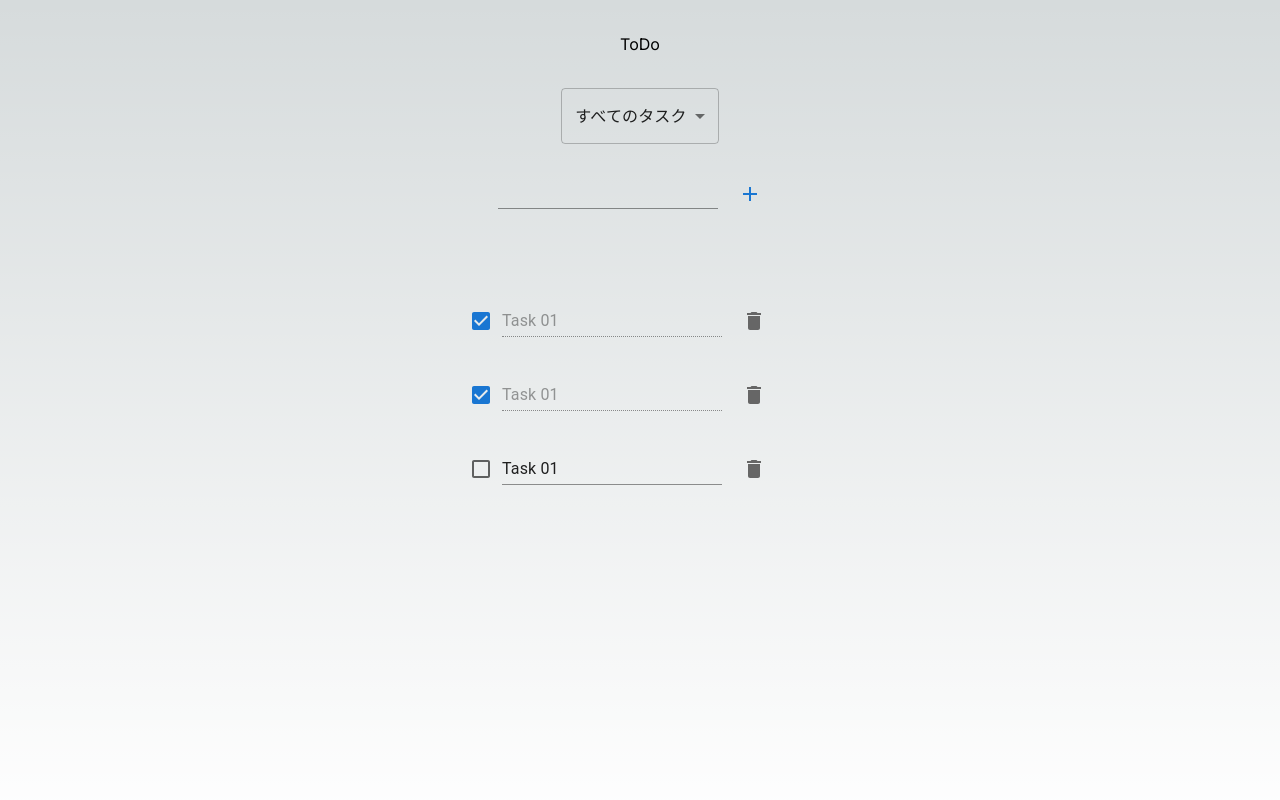
Test: ToDo › ステータス変更されたタスクを表示する › ごみ箱へ移動したタスクを表示できること
Type "Task 01" into the 1st field at (608, 193), box [498,177,718,209]
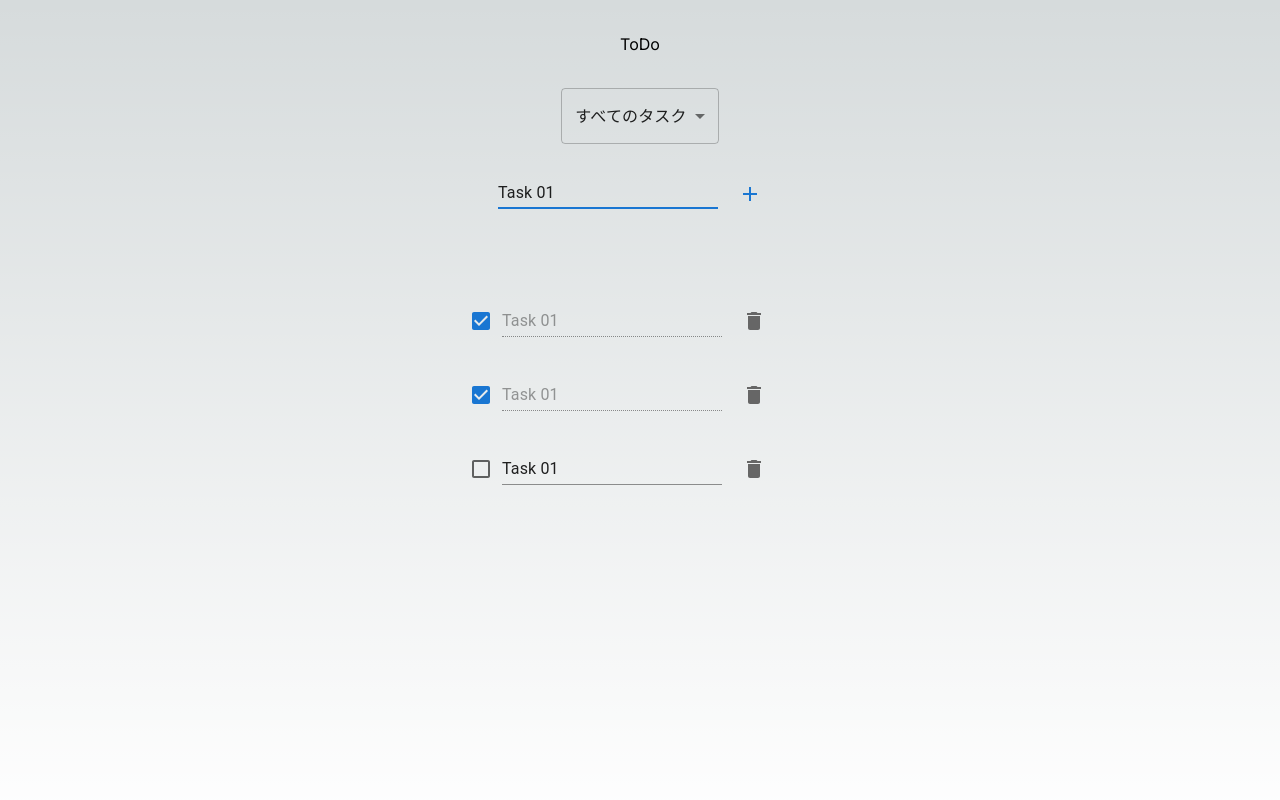
Click the 1st button at (750, 194), box [718,176,782,212]
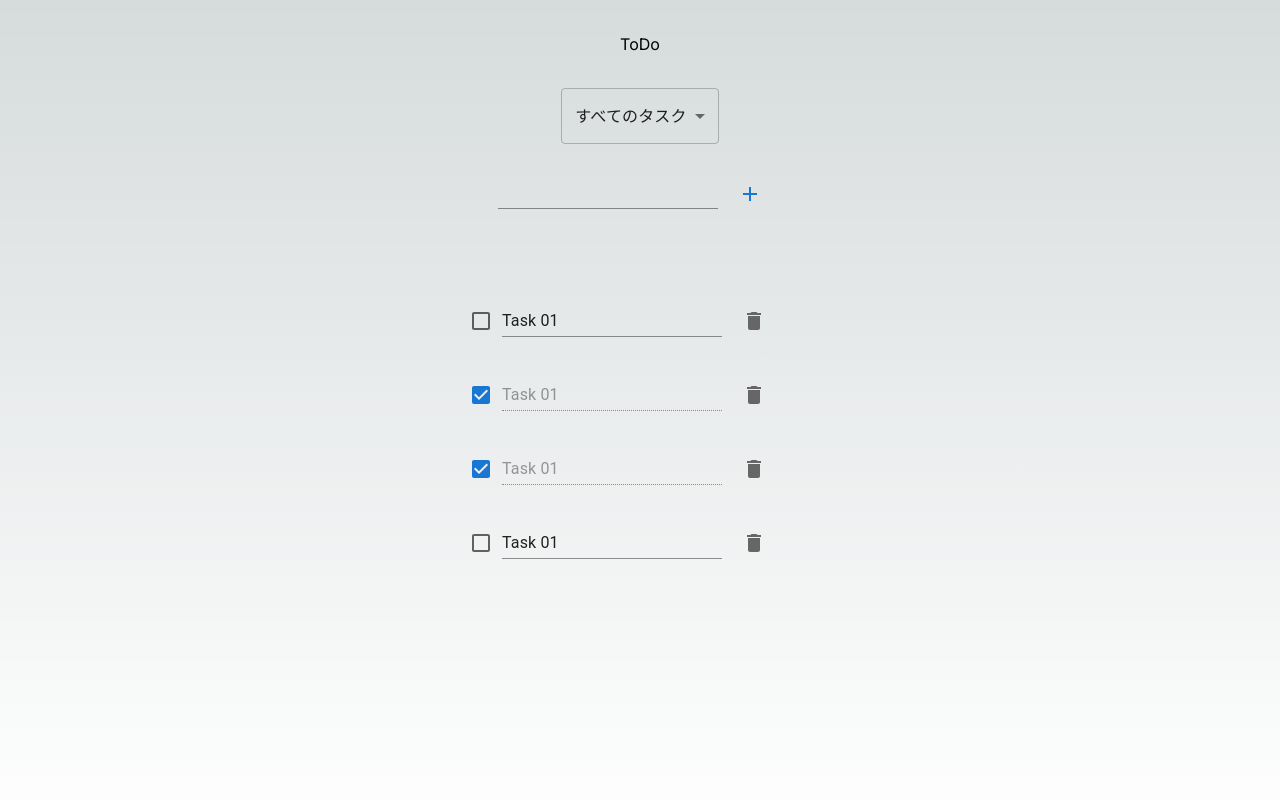
Click the 2nd button at (754, 321), box [722,303,786,339]
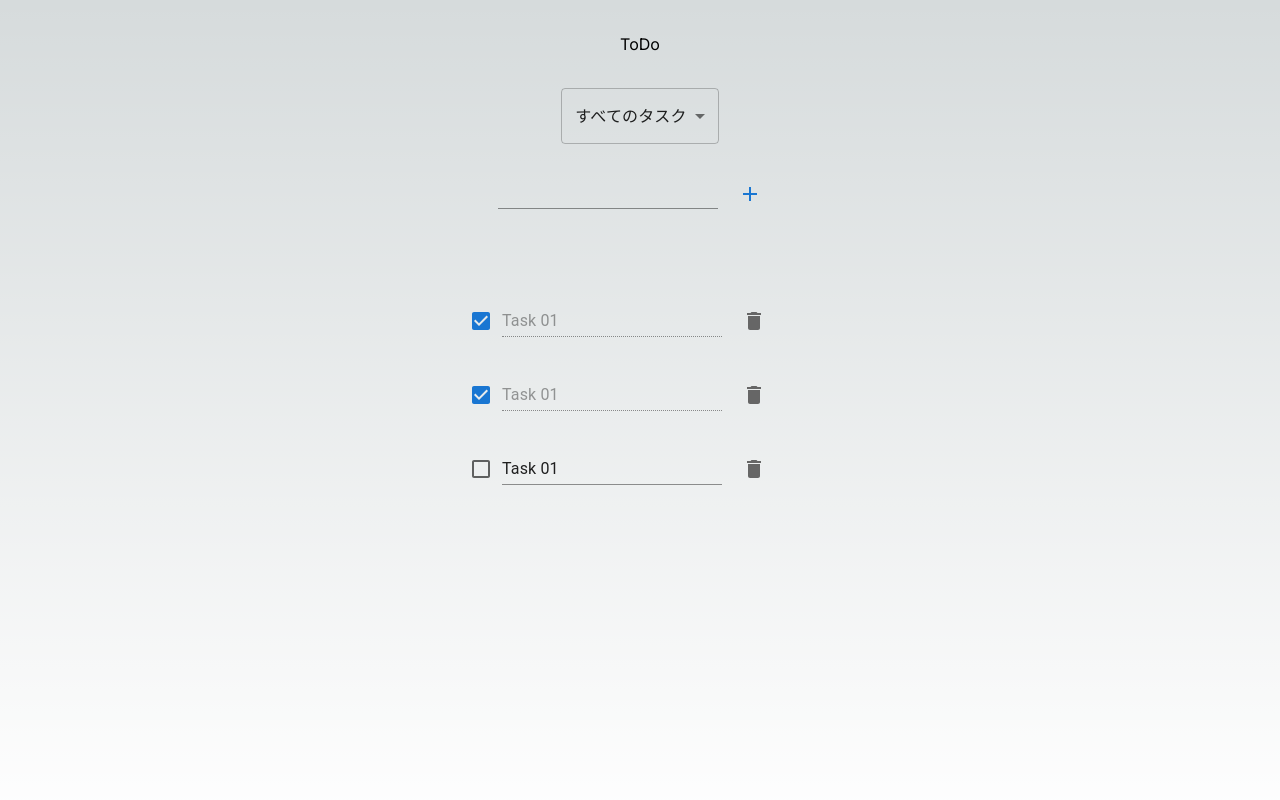
Click the dropdown at (631, 116), box [575,106,687,126]
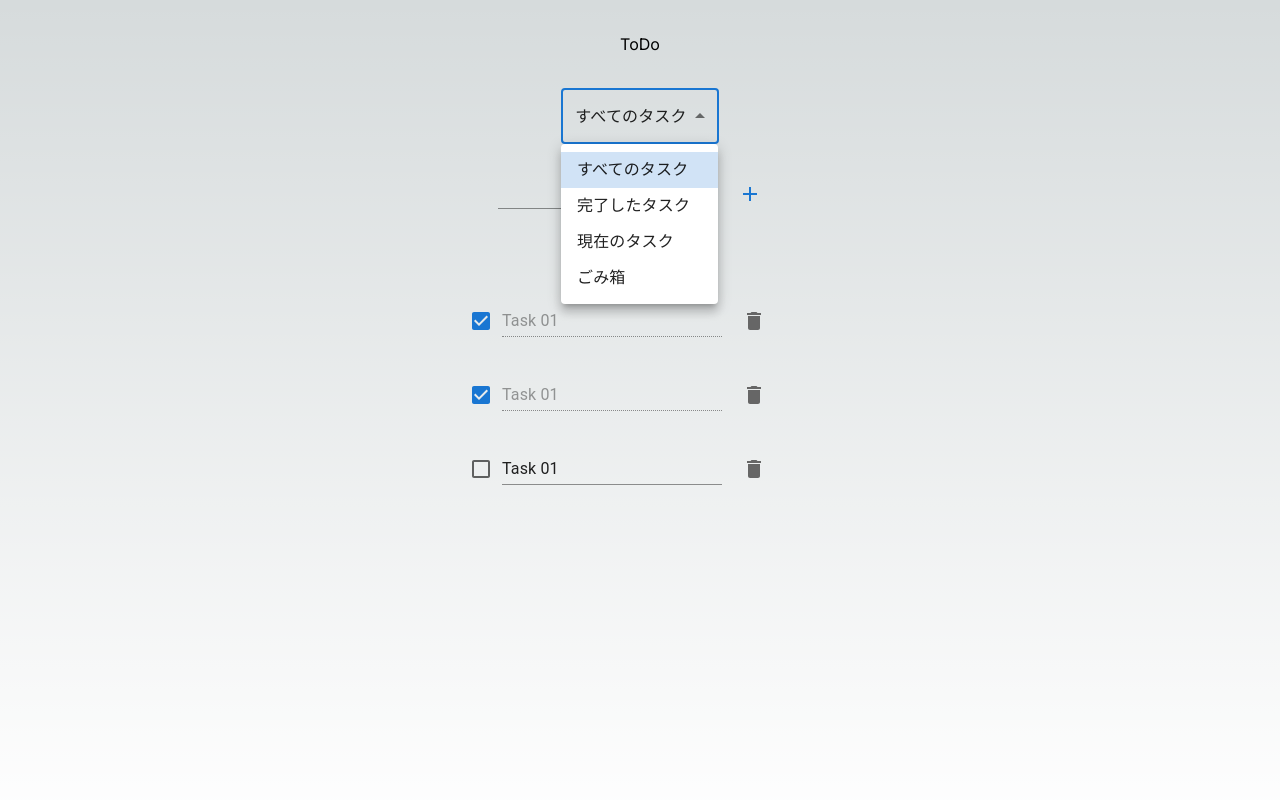
Click the option "ごみ箱" at (601, 278), box [577,268,626,287]
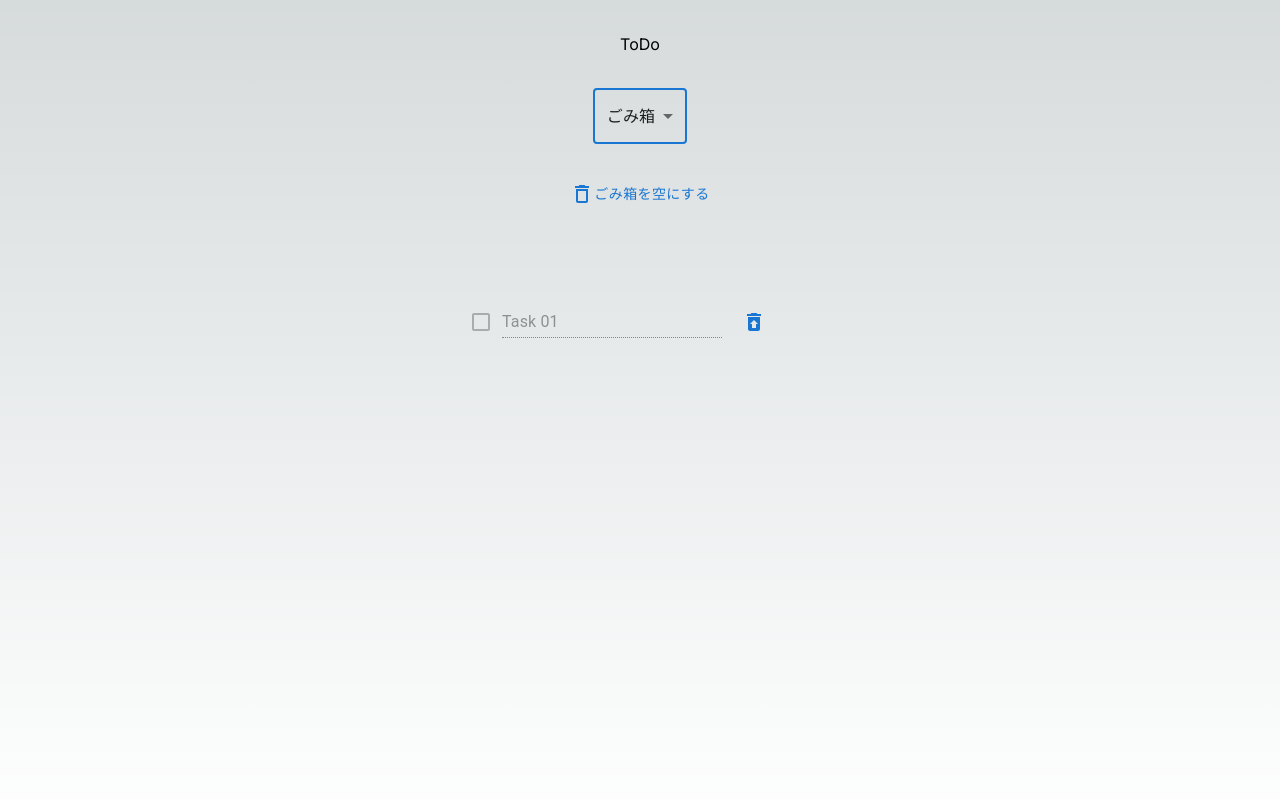
expect the number of list items is 1: met, box [469,304,786,340]
